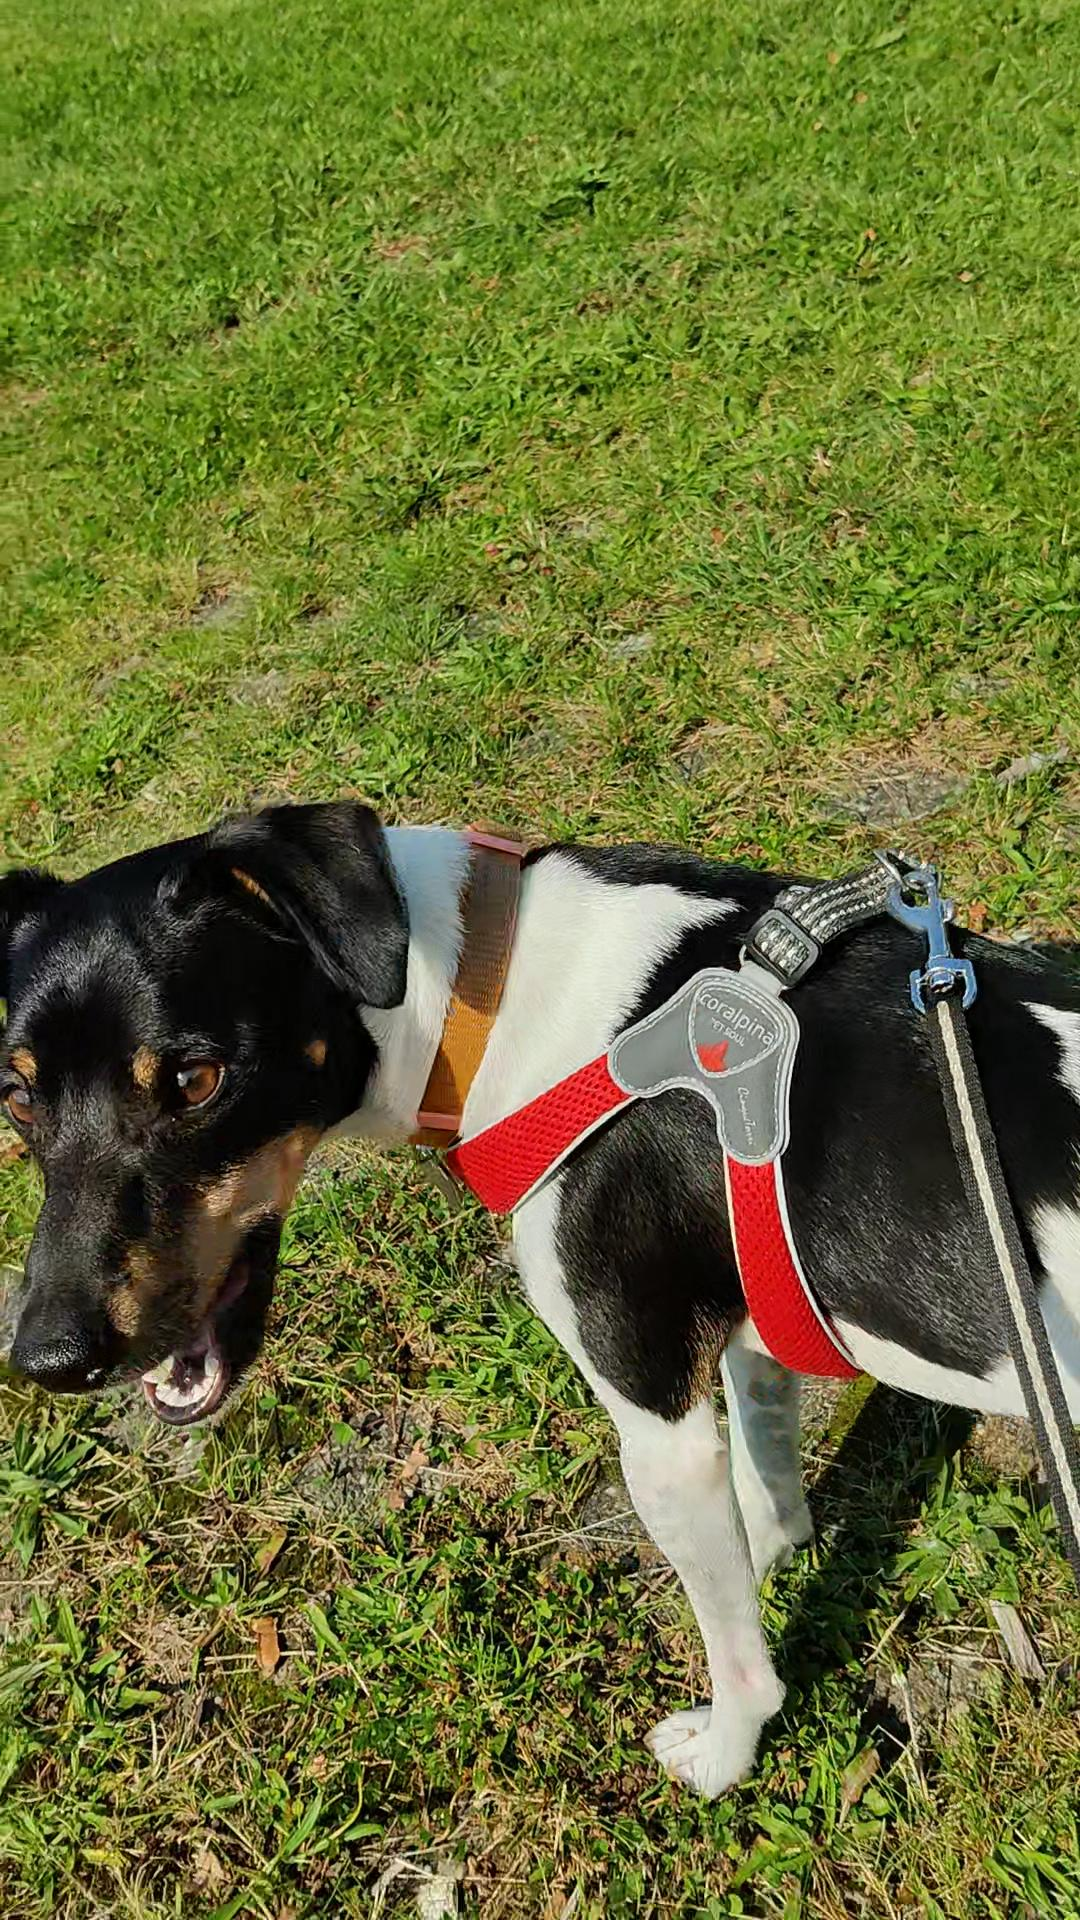Dog: (0, 791, 1079, 1818)
